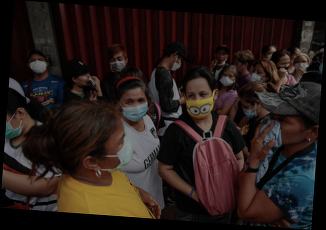mask_weared_incorrect: (77, 73, 93, 88), (216, 50, 228, 66)
with_mask: (103, 130, 136, 171), (266, 112, 304, 147), (186, 88, 215, 121), (122, 94, 149, 122), (6, 115, 24, 140), (29, 55, 48, 75), (239, 101, 258, 121), (110, 55, 127, 73), (250, 68, 266, 85), (220, 71, 235, 87), (277, 57, 290, 72), (295, 58, 308, 72), (172, 59, 183, 72)
